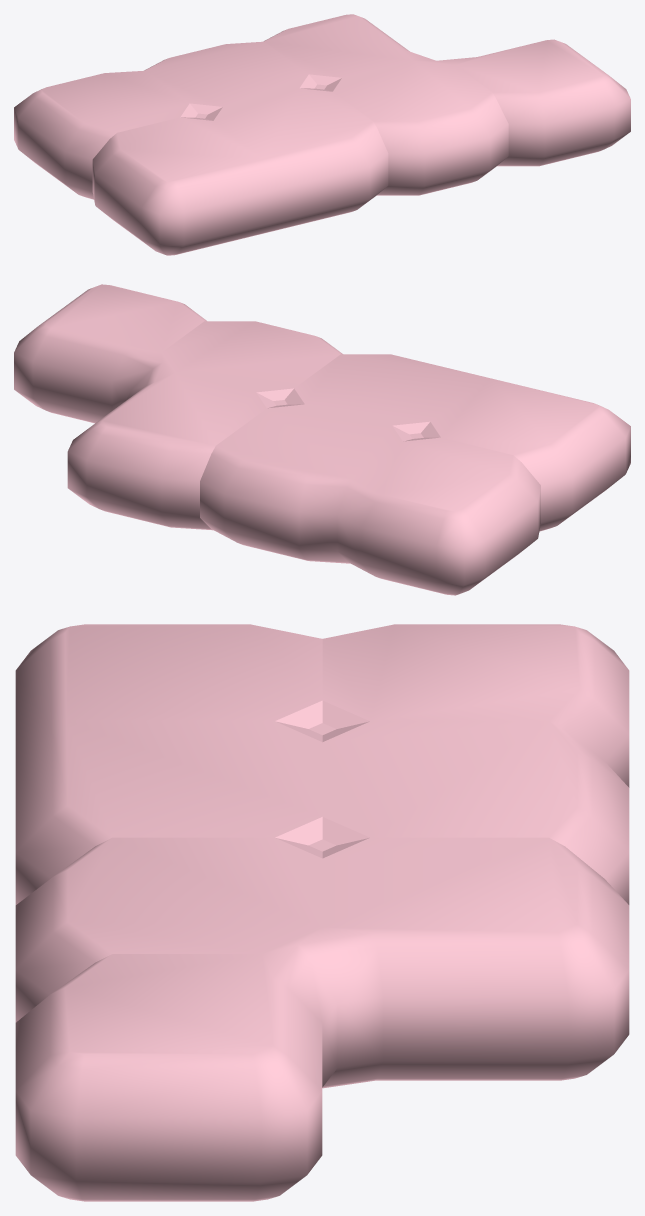
File: BG_cloud12.fbx
The picture shows the model from 3 angles, top to bottom: view 1: azimuth 30°, elevation 25°; view 2: azimuth 150°, elevation 25°; view 3: azimuth 270°, elevation 25°; orthographic projection. The views are drawn at different scales.
Visible parts, largest first — view 1: BG_cloud12; view 2: BG_cloud12; view 3: BG_cloud12.
Part boxes in pixels (left/top/right/bottom): BG_cloud12: left=14, top=14, right=630, bottom=255; BG_cloud12: left=14, top=284, right=630, bottom=595; BG_cloud12: left=15, top=624, right=629, bottom=1201.
Size of the model in its own units: 154 by 22.32 by 84.27.
